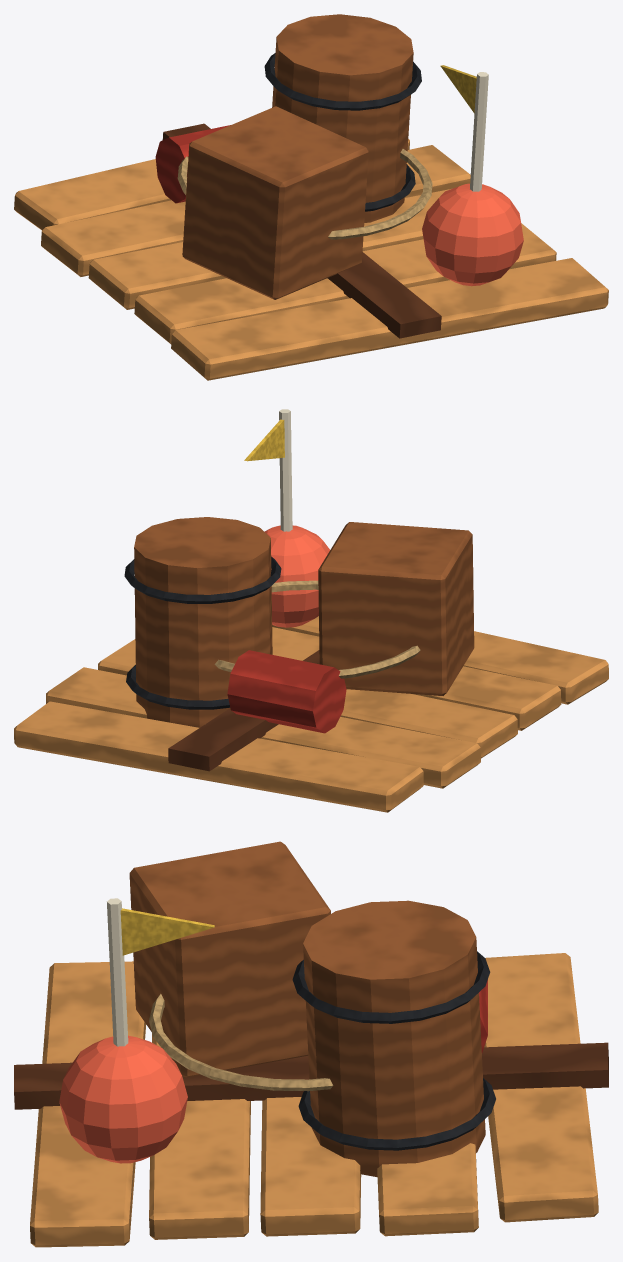
The model's file is floating_salvage.glb.
The picture shows the model from 3 angles, top to bottom: view 1: azimuth 30°, elevation 25°; view 2: azimuth 150°, elevation 25°; view 3: azimuth 270°, elevation 25°; orthographic projection. The views are drawn at different scales.
Visible parts, largest first — view 1: floating_salvage_mesh; view 2: floating_salvage_mesh; view 3: floating_salvage_mesh.
Part boxes in pixels (x1,y1,x2,y2): floating_salvage_mesh: (14, 14, 608, 380); floating_salvage_mesh: (14, 409, 608, 812); floating_salvage_mesh: (14, 841, 608, 1247).
Size of the model in its own units: 2.32 by 1.3 by 2.4.
Materials: 1 (1 with a texture image).
